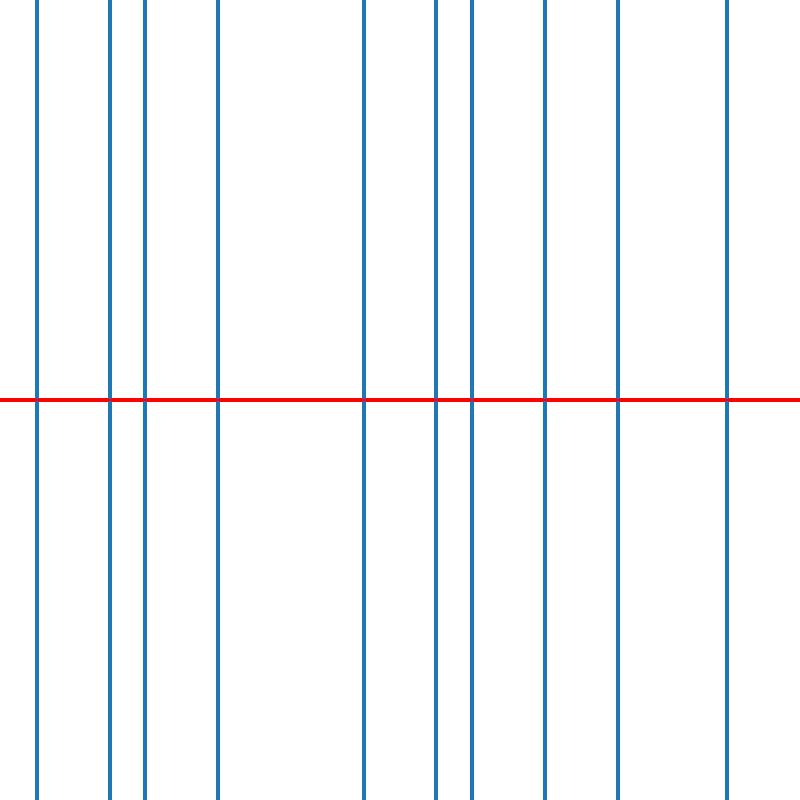root: (141, 396, 149, 404), (541, 396, 549, 404), (432, 396, 440, 404), (32, 396, 40, 404), (214, 396, 221, 404), (723, 396, 730, 404), (469, 396, 476, 404), (105, 396, 112, 404), (614, 396, 621, 404), (360, 396, 367, 404)
